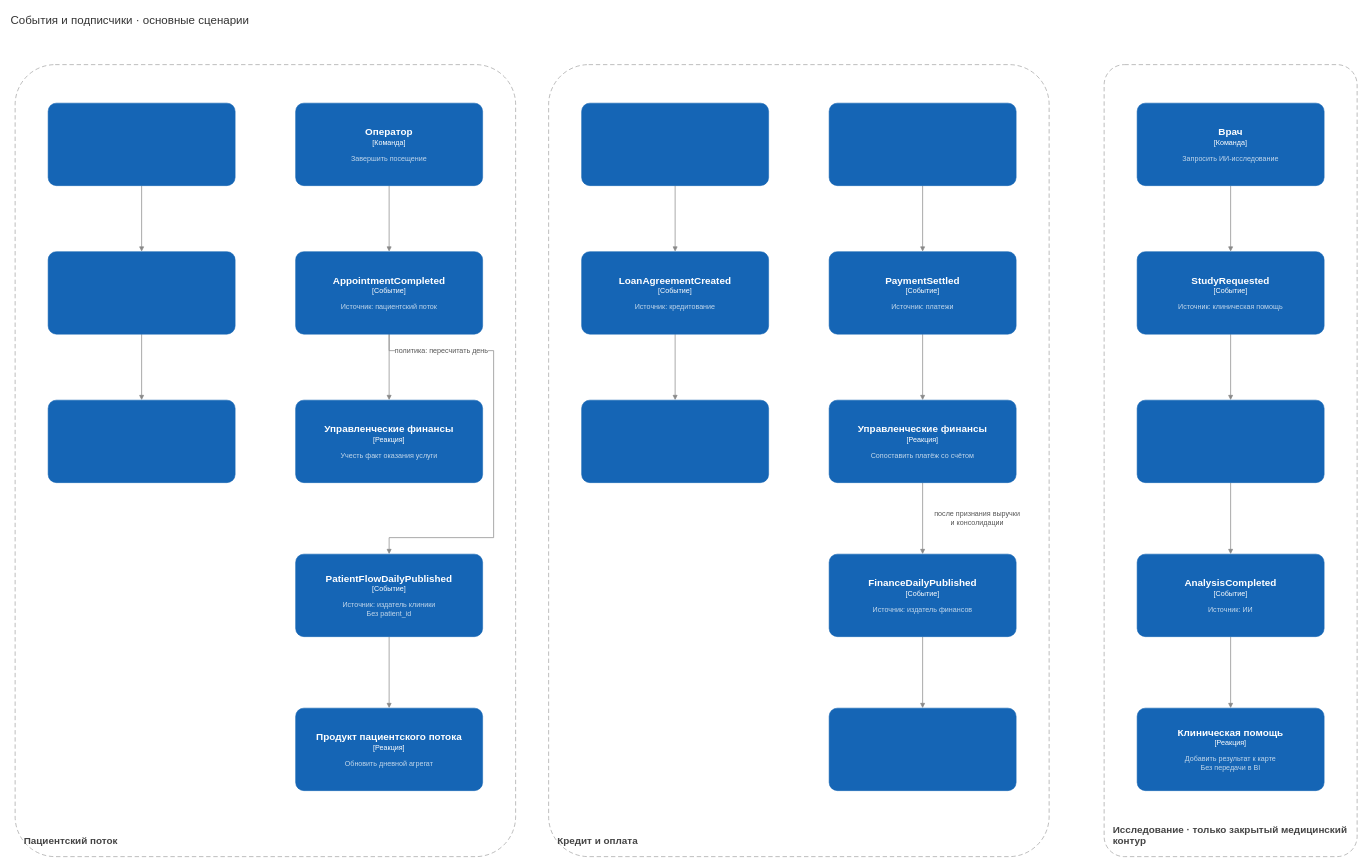
Image size: 1367x866. Some labels were removed from this diagram. The shapes that lost their labels are listed below. From the top down, each one's centre as x and y in pixels, then its label:
At (x=141, y=144): "Оператор [Команда] Зарегистрировать пациента".
At (x=675, y=144): "Кредитование [Команда] Создать договор".
At (x=922, y=144): "Платежи [Команда] Подтвердить оплату счёта".
At (x=141, y=292): "PatientRegistered [Событие] Источник: пациентский поток".
At (x=141, y=441): "Клиническая помощь [Реакция] Подготовить пустую карту".
At (x=675, y=441): "Платежи [Реакция] Проверить разрешение на выдачу Начать отдельный процесс".
At (x=1230, y=441): "ИИ [Реакция] Выполнить анализ и сохранить".
At (x=922, y=749): "Финансовый продукт [Реакция] Обновить витрину выручки".
